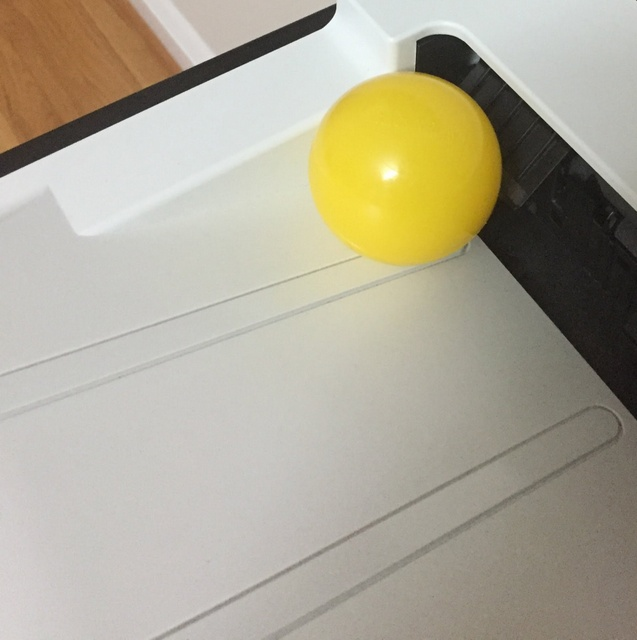ball: (310, 69, 502, 271)
